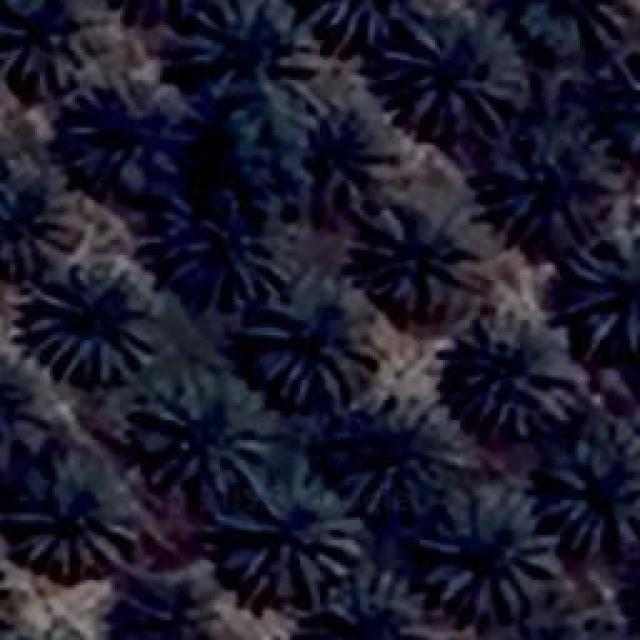PalmTree: (212, 464, 362, 598), (418, 482, 558, 620), (252, 272, 386, 406), (382, 10, 520, 140), (450, 307, 580, 435), (140, 370, 275, 492), (24, 262, 158, 382), (12, 450, 142, 572), (340, 390, 465, 512), (485, 120, 610, 238), (167, 190, 295, 302), (368, 210, 480, 318), (70, 85, 188, 185), (274, 110, 398, 202), (547, 430, 635, 552), (568, 220, 638, 355), (0, 0, 97, 92), (195, 12, 288, 102), (0, 156, 80, 254), (290, 587, 420, 640), (100, 580, 210, 636), (290, 0, 401, 55), (584, 51, 640, 152), (0, 360, 55, 455), (526, 0, 626, 42), (101, 0, 212, 31), (520, 613, 640, 640), (0, 573, 22, 640)
